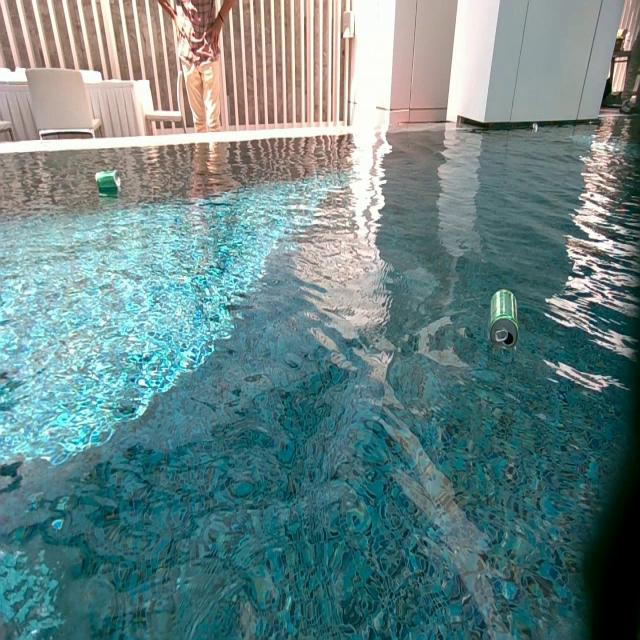Cans: (488, 287, 519, 348), (96, 171, 119, 190), (530, 124, 538, 134)
